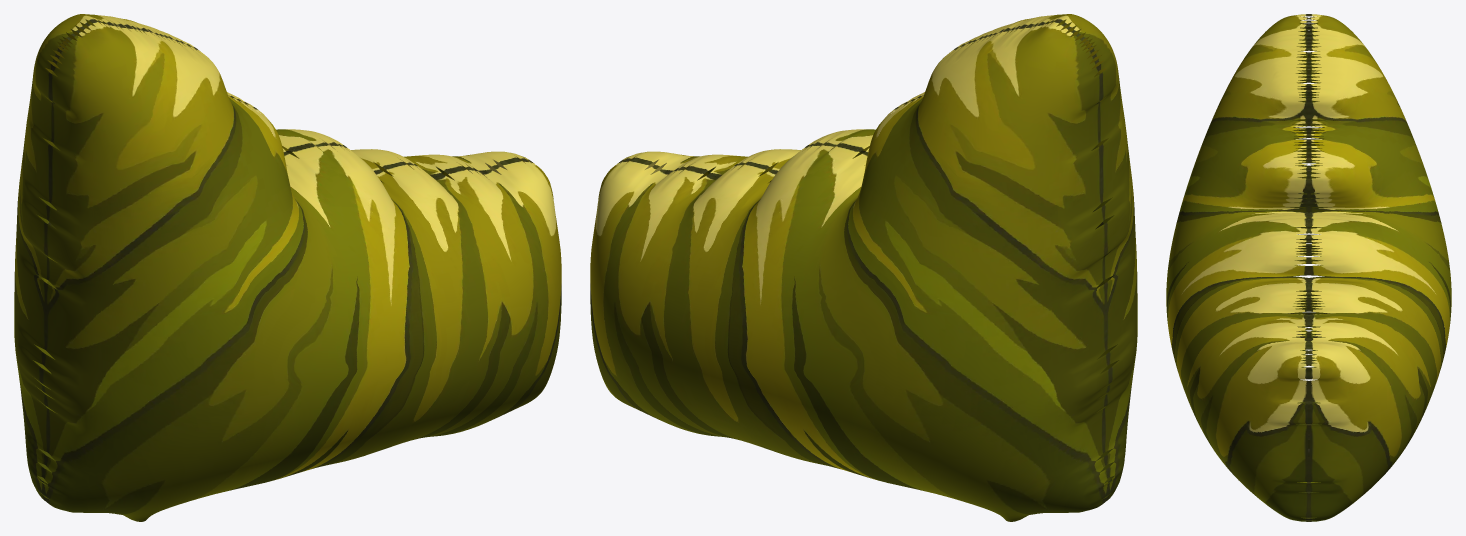
File: olive_cliff.glb
3 views of the same model, side by side, from view 1: azimuth 30°, elevation 25°; view 2: azimuth 150°, elevation 25°; view 3: azimuth 270°, elevation 25° (orthographic). The views are drawn at different scales.
Parts seen in each view (by area): view 1: olive_cliff; view 2: olive_cliff; view 3: olive_cliff.
Part boxes in pixels (bbox=[...]): olive_cliff: bbox=[14, 14, 561, 521]; olive_cliff: bbox=[590, 14, 1137, 521]; olive_cliff: bbox=[1166, 14, 1451, 521].
Size of the model in its own units: 0.9889 by 0.917 by 0.66.
1 material, 1 textured.
